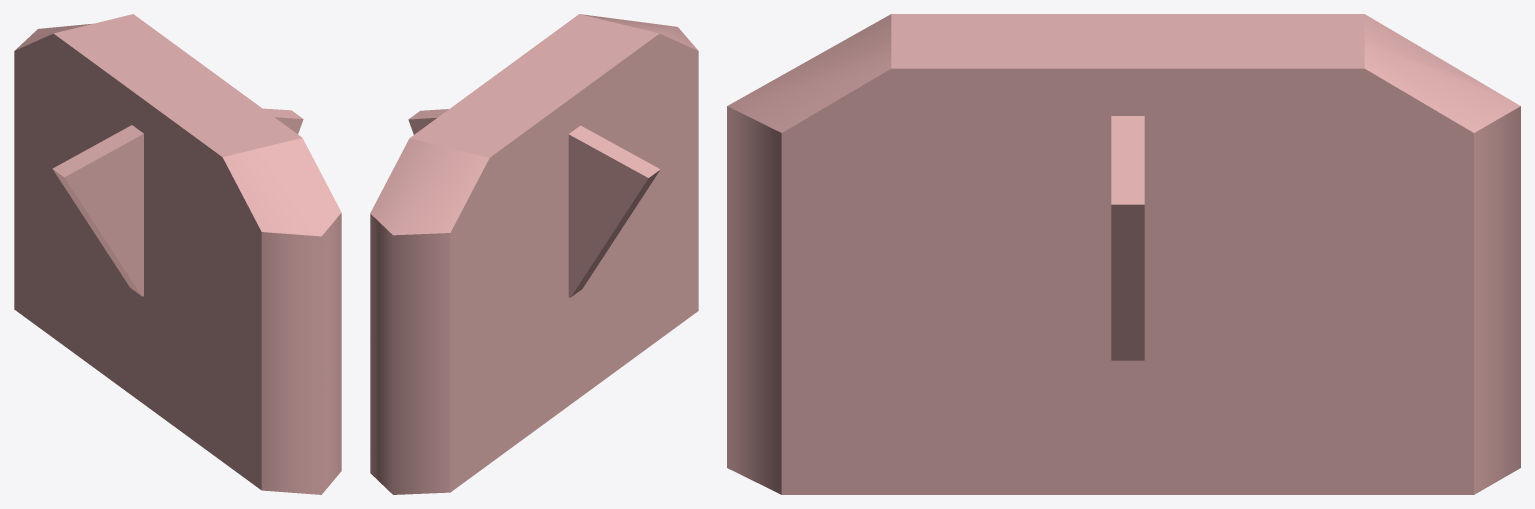
File: MOD_ LOBBY R_activeTurnstile.fbx
3 renders of one model, left to right at view 1: azimuth 30°, elevation 25°; view 2: azimuth 150°, elevation 25°; view 3: azimuth 270°, elevation 25°, orthographic. The views are drawn at different scales.
Visible parts, largest first — view 1: polySurface3, barrierR; view 2: polySurface3, barrierR; view 3: polySurface3.
Part boxes in pixels (box(x1,y1,x2,y2)): polySurface3: box(14, 14, 341, 494); barrierR: box(52, 125, 143, 296); polySurface3: box(370, 14, 698, 494); barrierR: box(568, 125, 660, 297); polySurface3: box(727, 14, 1520, 494).
Bounding box in the file's own units: 92.33 × 112 × 189.
